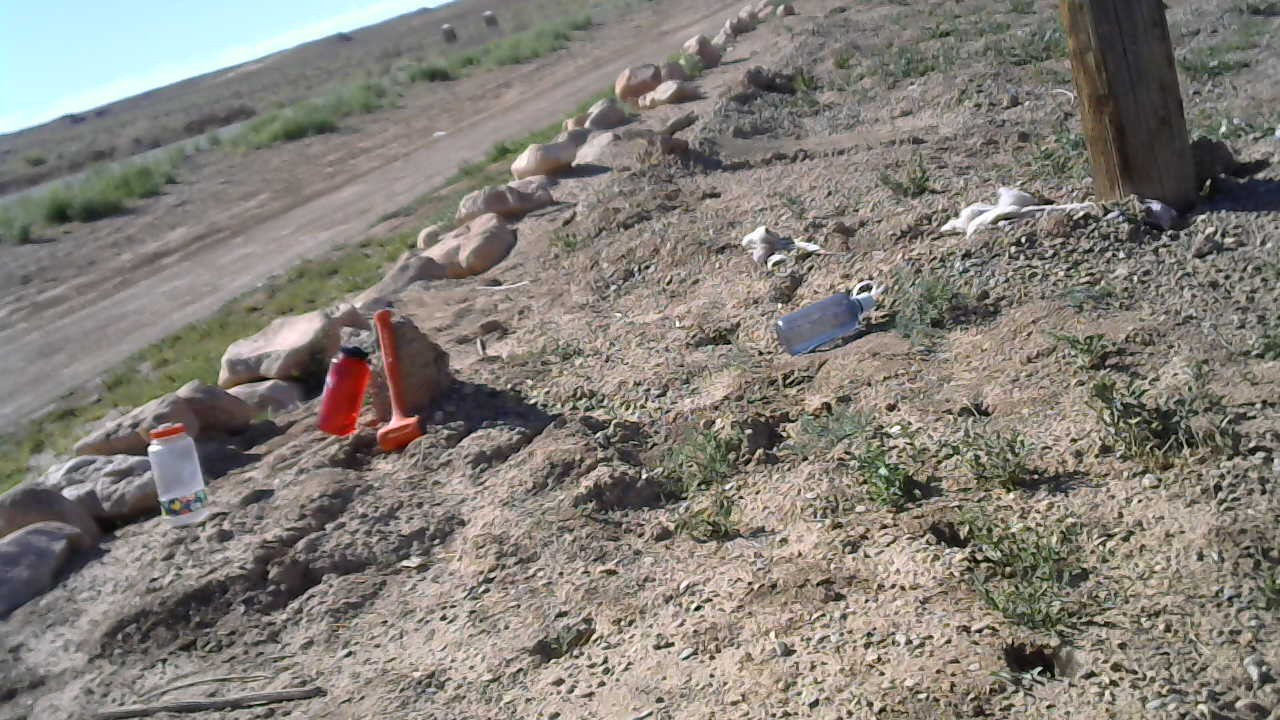bottle: (767, 277, 885, 358), (142, 418, 216, 532), (309, 346, 374, 438)
hammer: (372, 306, 428, 461)
